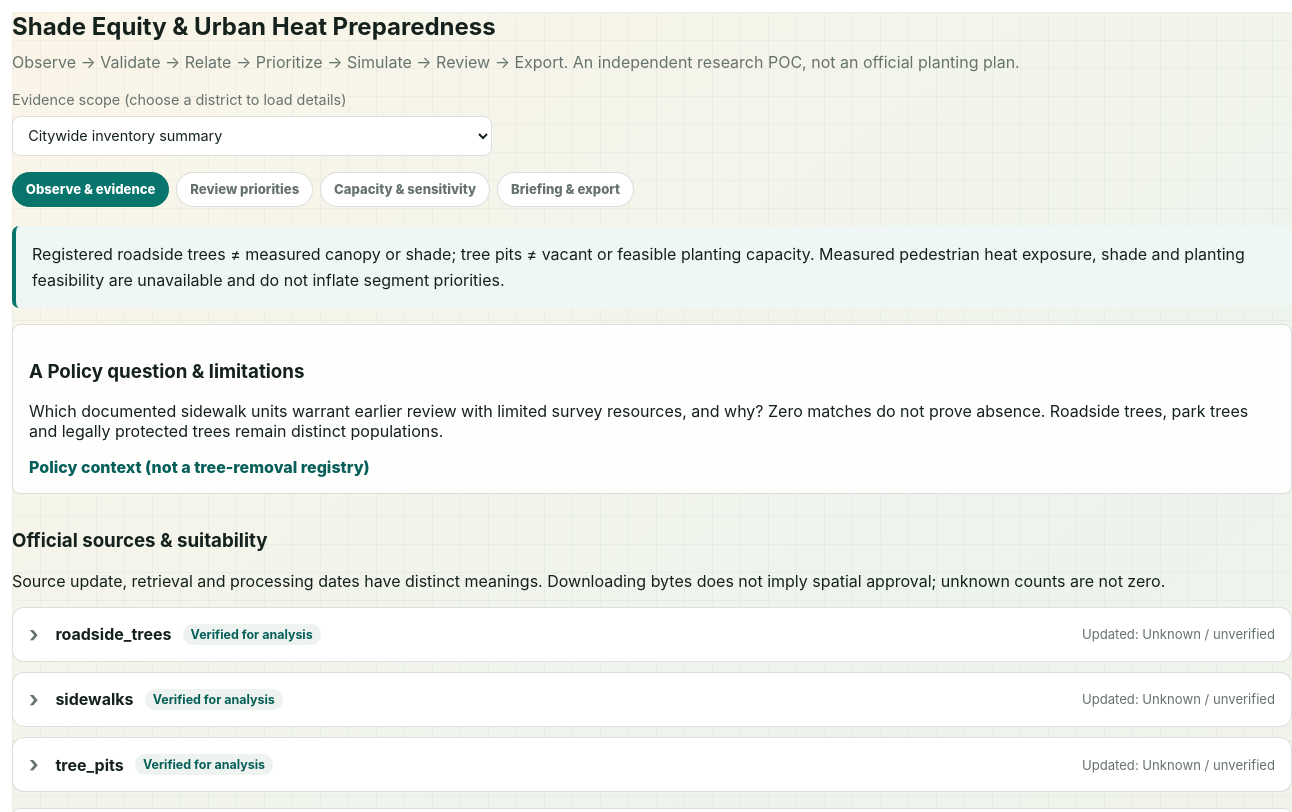
shade equity dashboard › shows five review units at the default survey capacity
Click the button "Review priorities".
click(245, 189)  # box top-left (176, 172), bottom-right (313, 207)
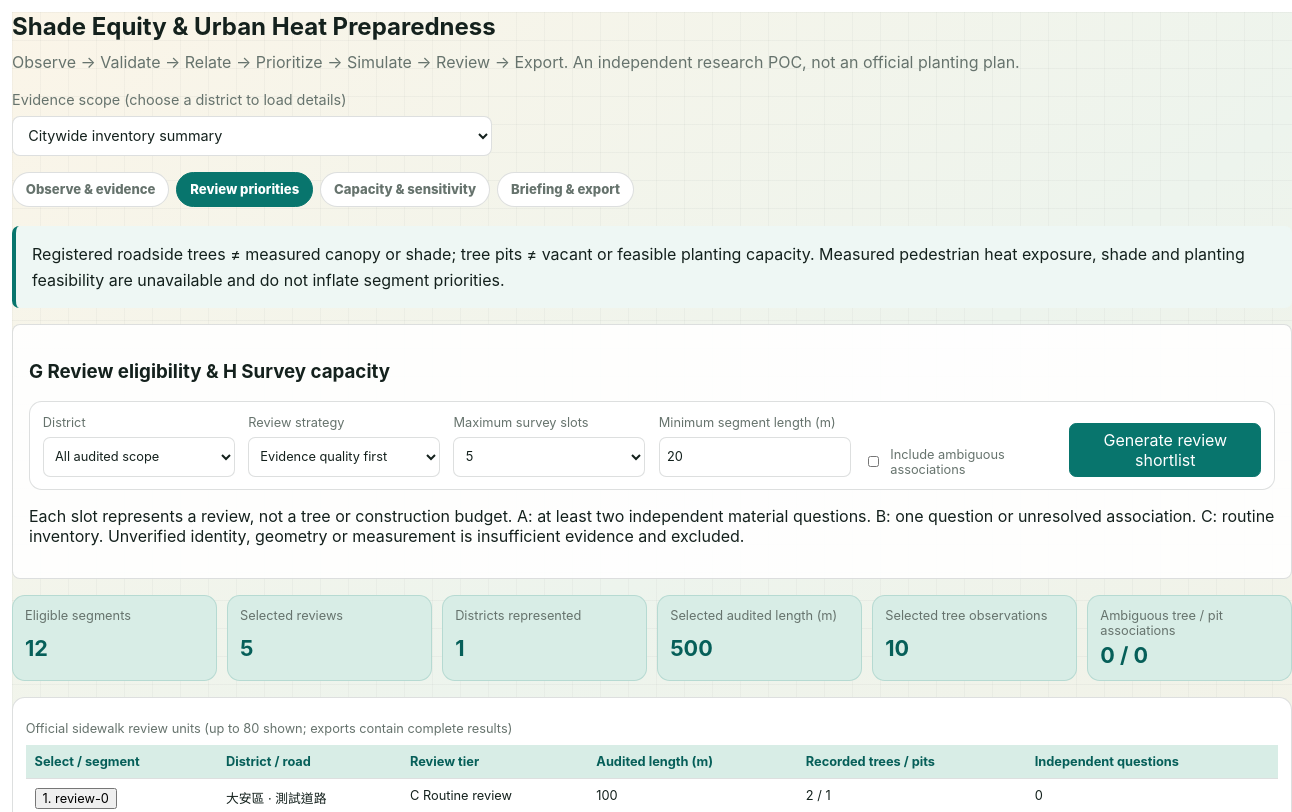
Expected: the number of buttons "1. review-0" is 5
